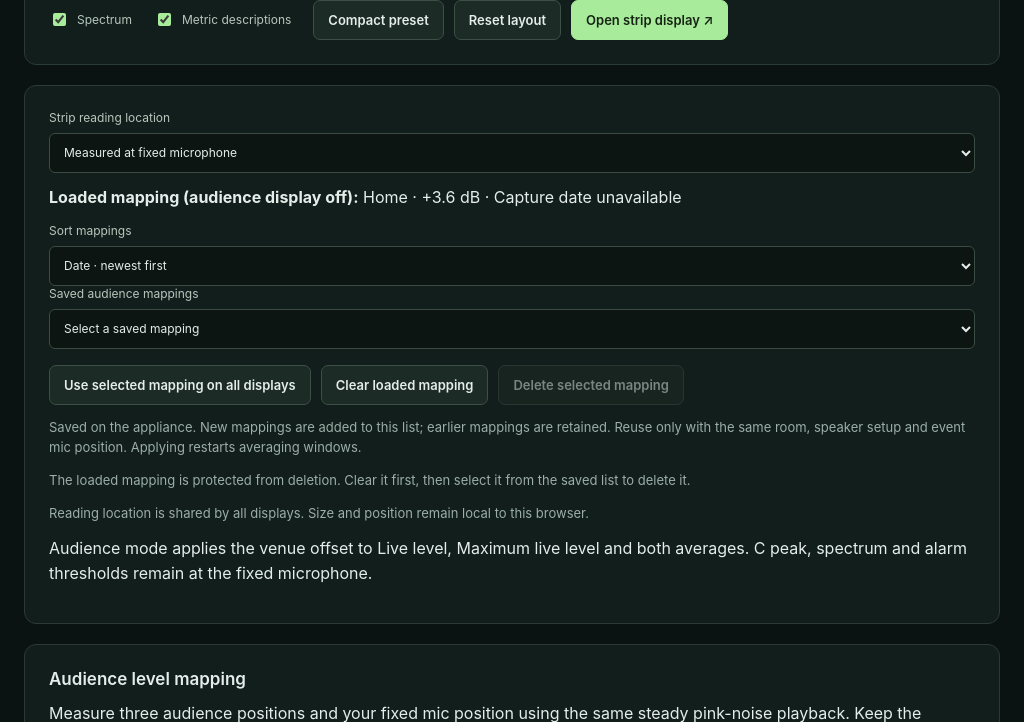
Test: clears the loaded mapping through the shared API
The width and height of the screenshot is (1024, 722).
(page scrolled)
Click the button "Clear loaded mapping" at x=405, y=385, box [321,365,488,405]
(page scrolled)
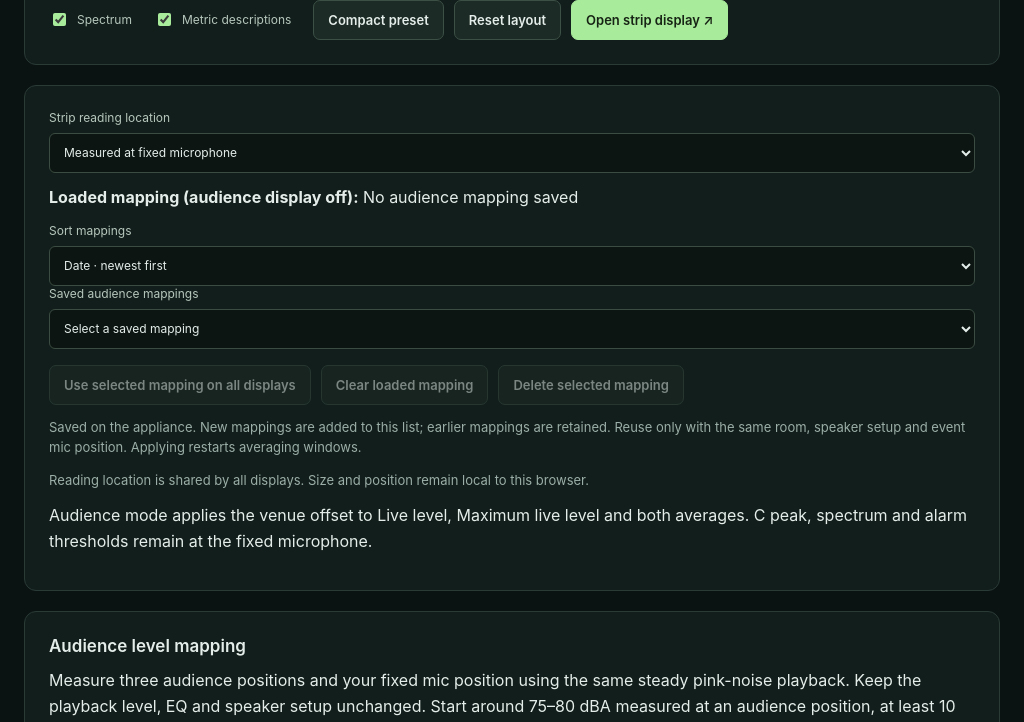
Expected: the button "Clear loaded mapping" is disabled, [321,365,488,405]
